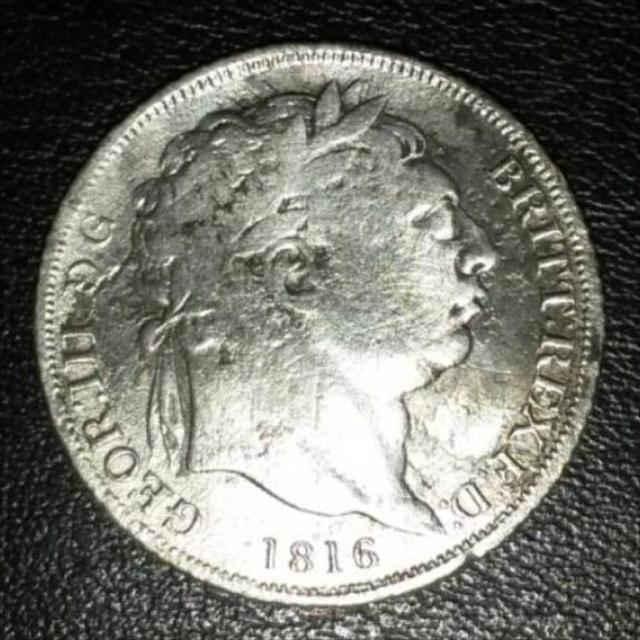Coin: (38, 45, 601, 609)
